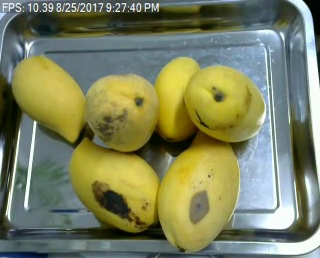Mango: (155, 125, 238, 255), (71, 137, 160, 235), (182, 63, 267, 139), (12, 55, 86, 142), (84, 74, 160, 152), (154, 54, 201, 142)
